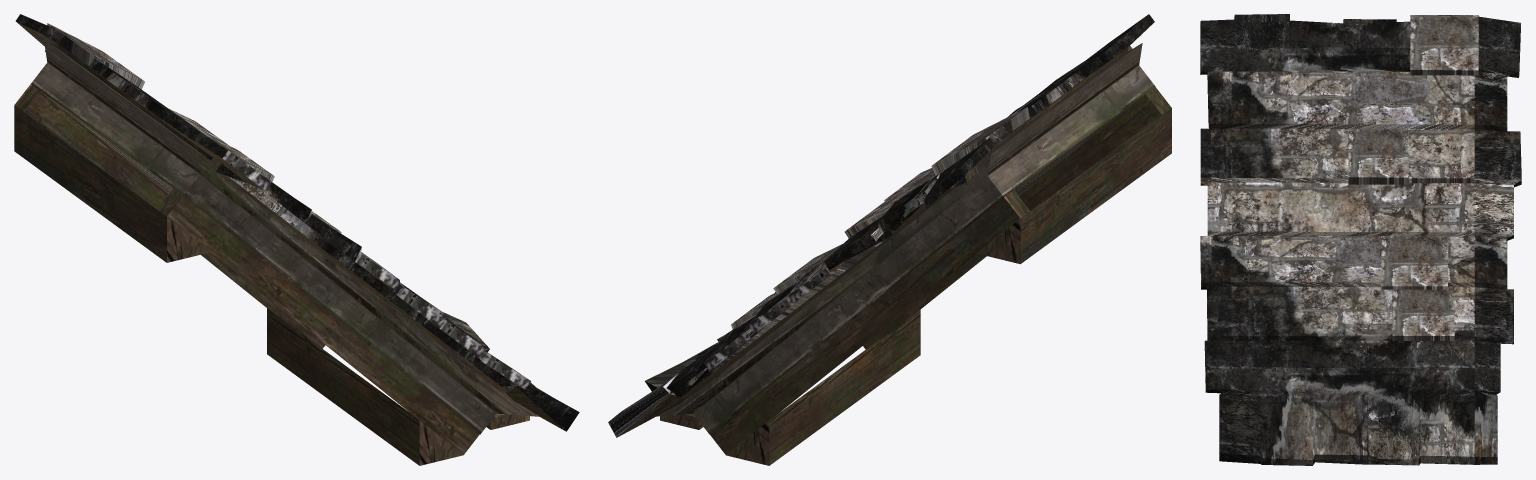
3 views of the same model, side by side, from view 1: azimuth 30°, elevation 25°; view 2: azimuth 150°, elevation 25°; view 3: azimuth 270°, elevation 25° (orthographic). The views are drawn at different scales.
Visible parts, largest first — view 1: SM_T3_Roof_Med_LOD0; view 2: SM_T3_Roof_Med_LOD0; view 3: SM_T3_Roof_Med_LOD0.
Boxes of the visible parts, bbox=[...] form: SM_T3_Roof_Med_LOD0: bbox=[14, 14, 579, 465]; SM_T3_Roof_Med_LOD0: bbox=[608, 14, 1171, 465]; SM_T3_Roof_Med_LOD0: bbox=[1200, 14, 1521, 465].
Size of the model in its own units: 2.36 by 2.09 by 1.96.
3 materials, 3 textured.
